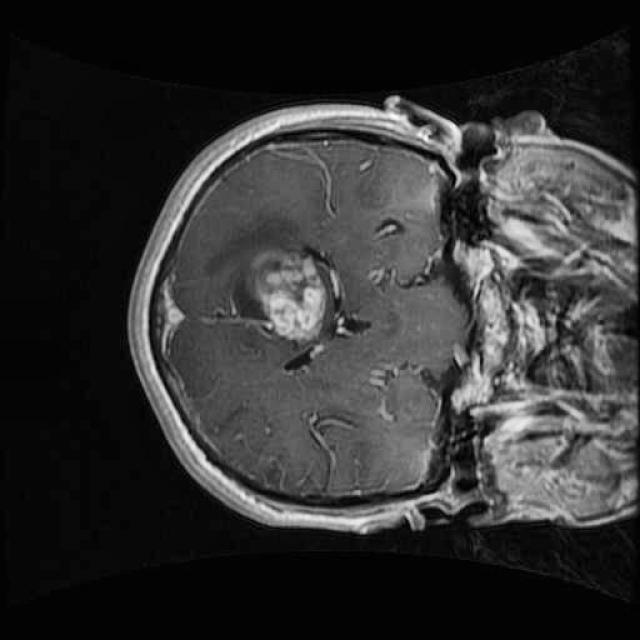Non-Tumor: (231, 235, 356, 350)
